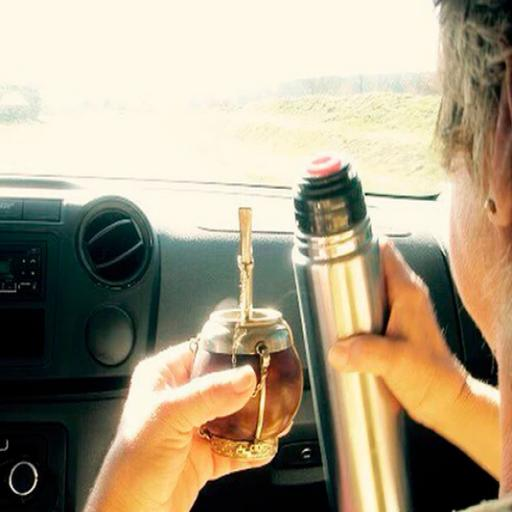mate: (187, 310, 302, 459)
termo: (289, 140, 418, 512)
